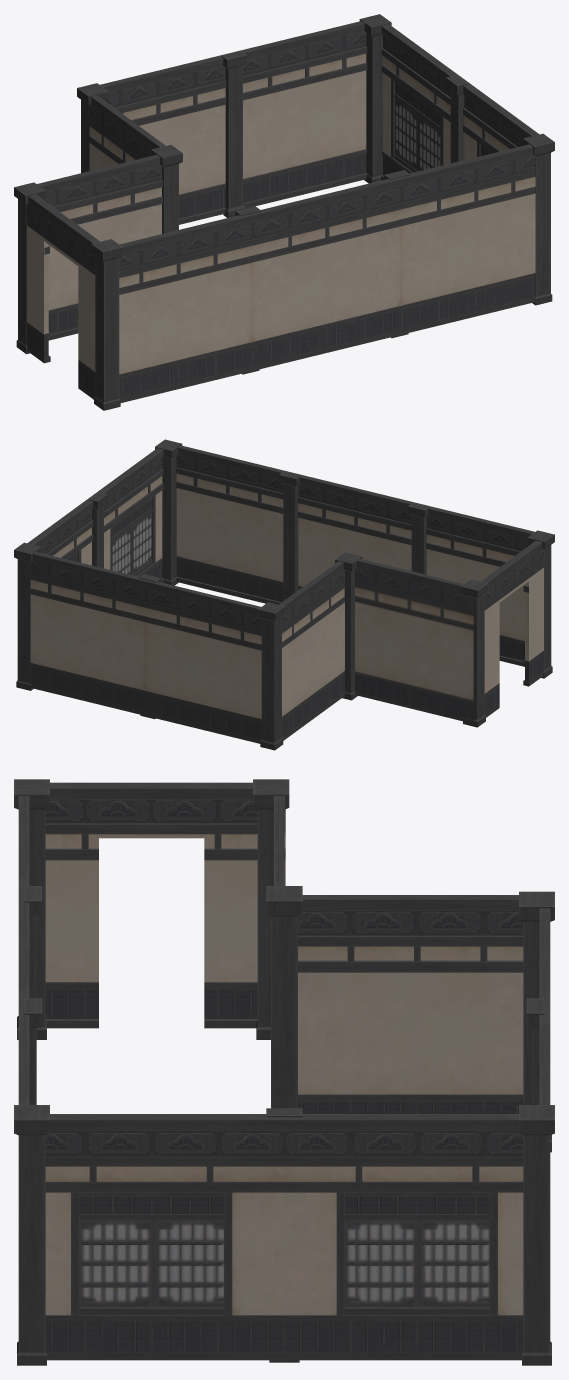
File: Homeworld_Interior_Dq_Room_G_Wall_01_Vo.fbx
The picture shows the model from 3 angles, top to bottom: view 1: azimuth 30°, elevation 25°; view 2: azimuth 150°, elevation 25°; view 3: azimuth 270°, elevation 25°; orthographic projection. The views are drawn at different scales.
Visible parts, largest first — view 1: Homeworld_Interior_Dq_Room_Wall_01_Vo (×7), Homeworld_Interior_Dq_Room_Pillar_01_Vo (×6), Homeworld_Interior_Dq_Room_Wall_02_Vo (×2), Homeworld_Interior_Dq_Room_Wall_06_Vo, Homeworld_Interior_Dq_Room_Pillar_02_Vo (×2); view 2: Homeworld_Interior_Dq_Room_Wall_01_Vo (×7), Homeworld_Interior_Dq_Room_G_Filling_01_Vo, Homeworld_Interior_Dq_Room_Pillar_01_Vo (×6), Homeworld_Interior_Dq_Room_Wall_02_Vo (×2), Homeworld_Interior_Dq_Room_Wall_06_Vo, Homeworld_Interior_Dq_Room_Pillar_02_Vo (×3); view 3: Homeworld_Interior_Dq_Room_Wall_02_Vo (×2), Homeworld_Interior_Dq_Room_Wall_01_Vo (×7), Homeworld_Interior_Dq_Room_Pillar_01_Vo (×6), Homeworld_Interior_Dq_Room_Wall_06_Vo, Homeworld_Interior_Dq_Room_G_Filling_01_Vo, Homeworld_Interior_Dq_Room_Pillar_02_Vo (×3).
Boxes of the visible parts, box(x1,y1,x2,y2) form: Homeworld_Interior_Dq_Room_Wall_01_Vo (×7): box(37, 21, 535, 402); Homeworld_Interior_Dq_Room_Pillar_01_Vo (×6): box(14, 14, 554, 410); Homeworld_Interior_Dq_Room_Wall_02_Vo (×2): box(381, 24, 539, 180); Homeworld_Interior_Dq_Room_Wall_06_Vo: box(27, 194, 99, 399); Homeworld_Interior_Dq_Room_Pillar_02_Vo (×2): box(221, 51, 467, 217); Homeworld_Interior_Dq_Room_Wall_01_Vo (×7): box(30, 445, 534, 743); Homeworld_Interior_Dq_Room_G_Filling_01_Vo: box(355, 561, 473, 721); Homeworld_Interior_Dq_Room_Pillar_01_Vo (×6): box(14, 439, 554, 750); Homeworld_Interior_Dq_Room_Wall_02_Vo (×2): box(27, 448, 163, 582); Homeworld_Interior_Dq_Room_Wall_06_Vo: box(473, 540, 543, 717); Homeworld_Interior_Dq_Room_Pillar_02_Vo (×3): box(89, 471, 429, 601); Homeworld_Interior_Dq_Room_Wall_02_Vo (×2): box(45, 1114, 523, 1360); Homeworld_Interior_Dq_Room_Wall_01_Vo (×7): box(18, 796, 550, 1113); Homeworld_Interior_Dq_Room_Pillar_01_Vo (×6): box(14, 779, 554, 1365); Homeworld_Interior_Dq_Room_Wall_06_Vo: box(45, 782, 257, 1028); Homeworld_Interior_Dq_Room_G_Filling_01_Vo: box(79, 809, 489, 1307); Homeworld_Interior_Dq_Room_Pillar_02_Vo (×3): box(24, 886, 544, 1104).
Size of what is drawn, in the model's own units: 15.18 by 5.12 by 10.18.
